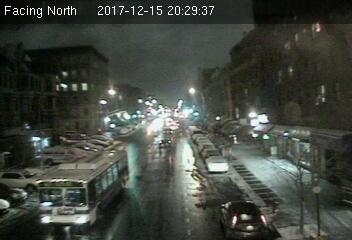bus: (38, 146, 128, 229)
car: (217, 201, 271, 240), (206, 155, 228, 174), (158, 138, 173, 148)
